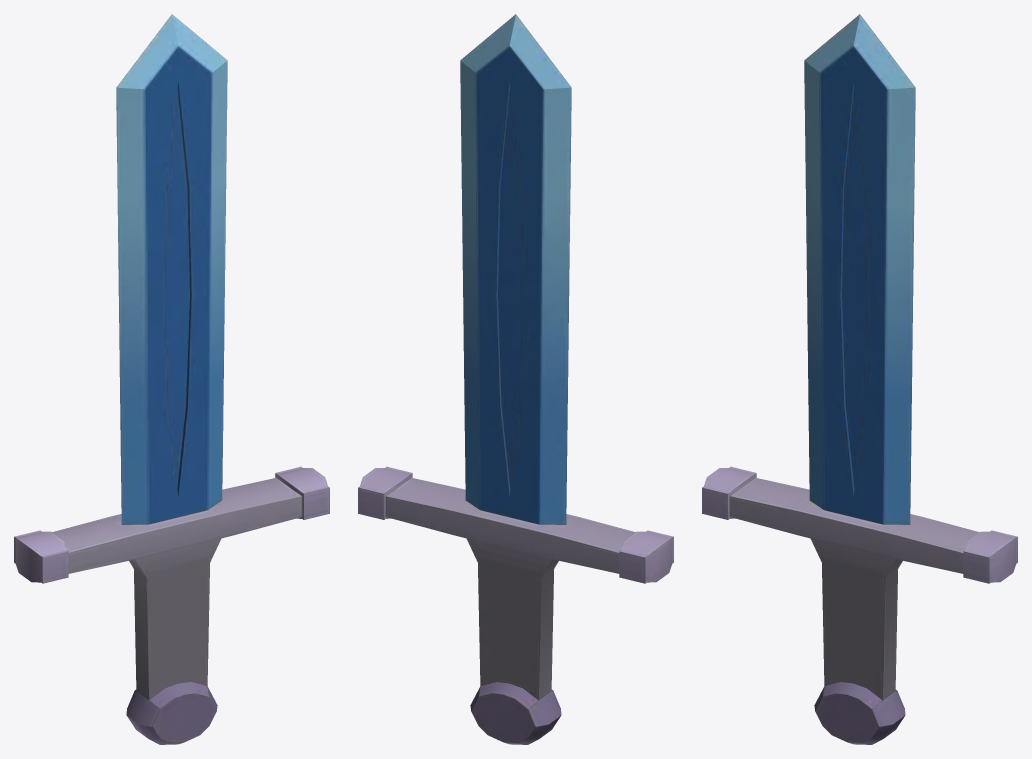
The model's file is espada_07.glb.
The picture shows the model from 3 angles, left to right: view 1: azimuth 30°, elevation 25°; view 2: azimuth 150°, elevation 25°; view 3: azimuth 330°, elevation 25°; orthographic projection.
Parts seen in each view (by area): view 1: ASSET_7_OK_7_All_0; view 2: ASSET_7_OK_7_All_0; view 3: ASSET_7_OK_7_All_0.
Boxes of the visible parts, x1,y1,x2,y2 form: ASSET_7_OK_7_All_0: [14, 14, 329, 744]; ASSET_7_OK_7_All_0: [358, 14, 673, 744]; ASSET_7_OK_7_All_0: [702, 14, 1017, 744].
Bounding box in the file's own units: 2.67 × 6.3 × 0.4503.
1 material, 1 textured.
